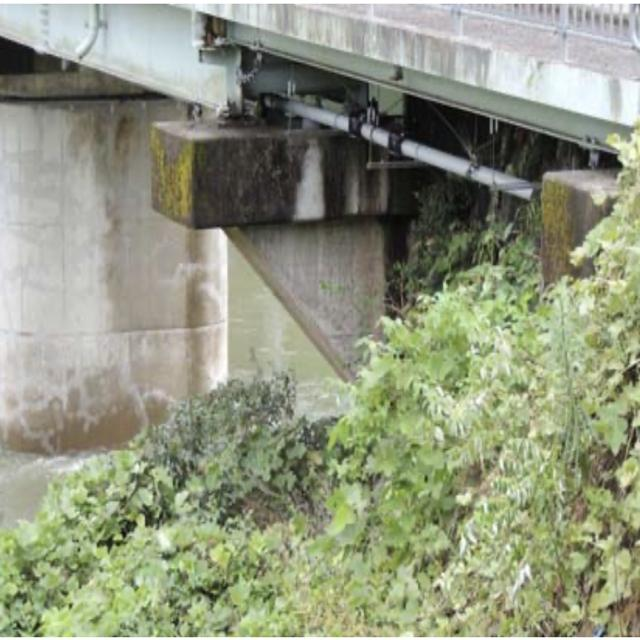leakage: (146, 114, 396, 219)
